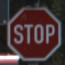stopsign: (7, 8, 61, 61)
